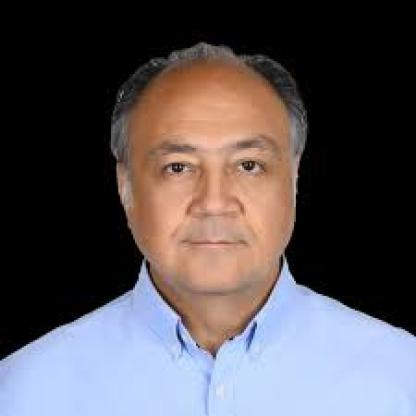person: (111, 42, 309, 290)
